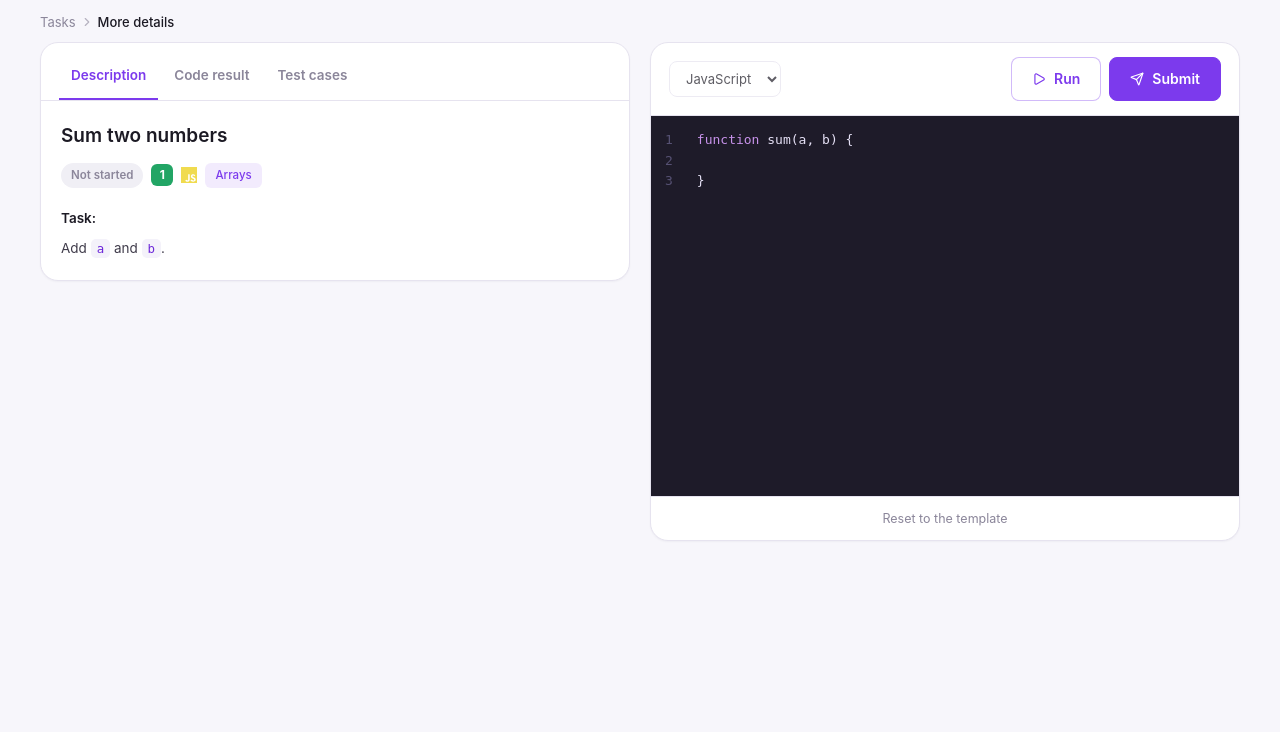
Test case: the tabs › switches to the test cases
Click the button "Test cases".
click(312, 79)  # box [265, 57, 359, 100]
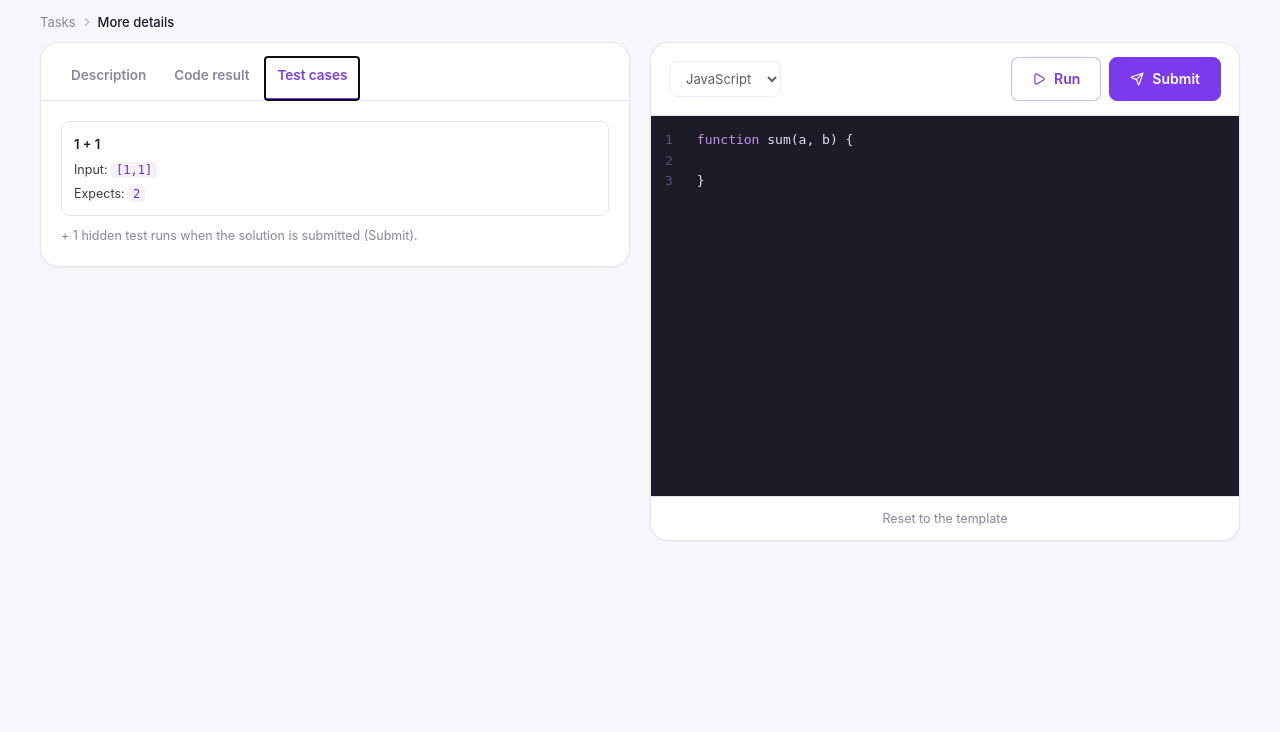
Now the text "1 + 1" is shown, box [74, 136, 100, 152]
